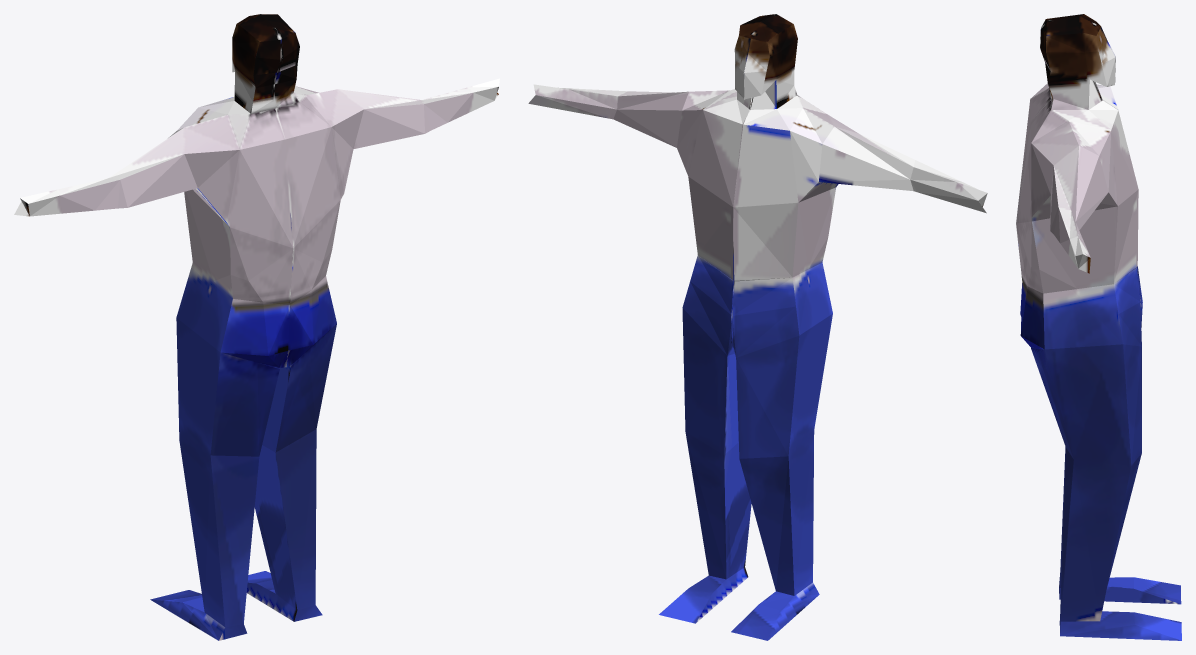
File: player_t1.obj
The picture shows the model from 3 angles, left to right: view 1: azimuth 30°, elevation 25°; view 2: azimuth 150°, elevation 25°; view 3: azimuth 270°, elevation 25°; orthographic projection. The views are drawn at different scales.
Visible parts, largest first — view 1: Cube.001; view 2: Cube.001; view 3: Cube.001.
Part boxes in pixels (bbox=[...]): Cube.001: bbox=[14, 14, 499, 640]; Cube.001: bbox=[528, 14, 987, 640]; Cube.001: bbox=[1016, 14, 1181, 640].
Size of the model in its own units: 2.45 by 2.92 by 0.7368.
